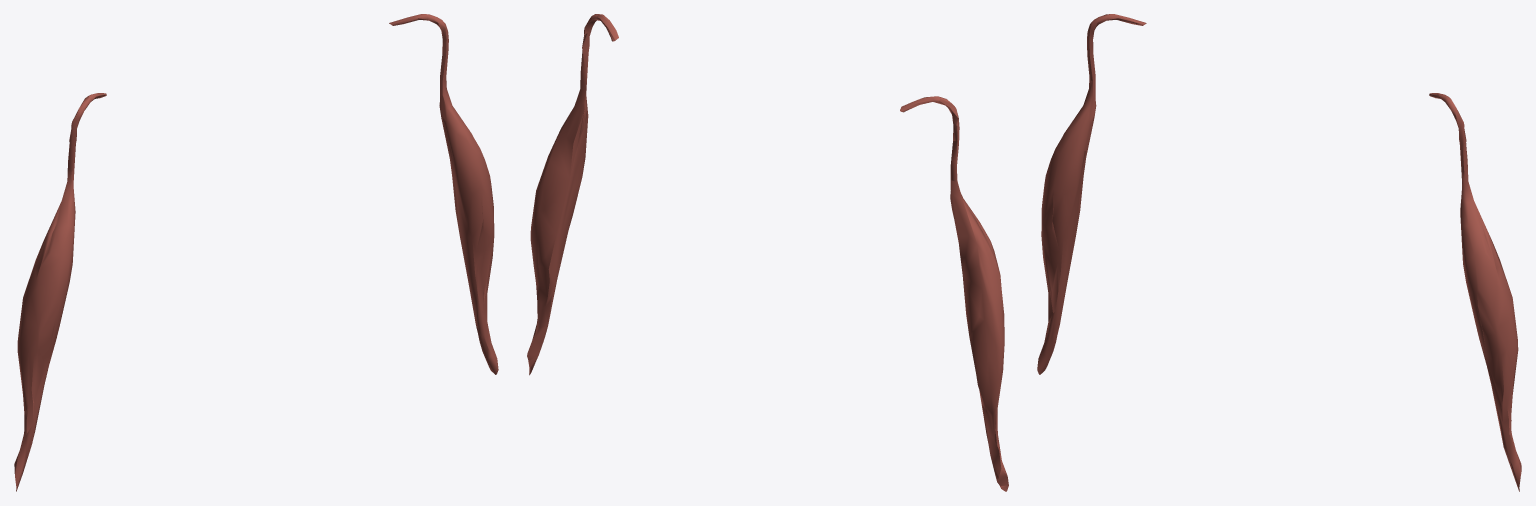
File: biceps_brachii.glb
3 renders of one model, left to right at view 1: azimuth 30°, elevation 25°; view 2: azimuth 150°, elevation 25°; view 3: azimuth 330°, elevation 25°, orthographic.
Parts seen in each view (by area): view 1: Biceps Brachii; view 2: Biceps Brachii; view 3: Biceps Brachii.
Part boxes in pixels (x1,y1,x2,y2): Biceps Brachii: [14, 14, 498, 491]; Biceps Brachii: [527, 14, 1008, 491]; Biceps Brachii: [1037, 14, 1521, 491].
Bounding box in the file's own units: 0.4596 × 0.3453 × 0.0415.
